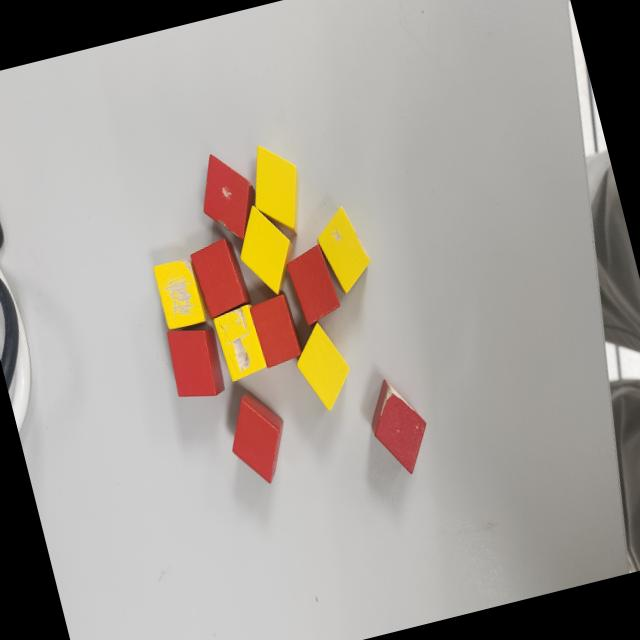broken: (358, 364, 437, 480), (190, 144, 268, 252), (309, 200, 377, 300), (210, 301, 267, 382), (152, 256, 208, 334)
red: (218, 384, 298, 491), (186, 232, 253, 324), (161, 318, 230, 406), (281, 240, 344, 330), (246, 290, 303, 371)
yellow: (226, 195, 304, 303), (240, 135, 312, 240), (286, 314, 358, 418)
